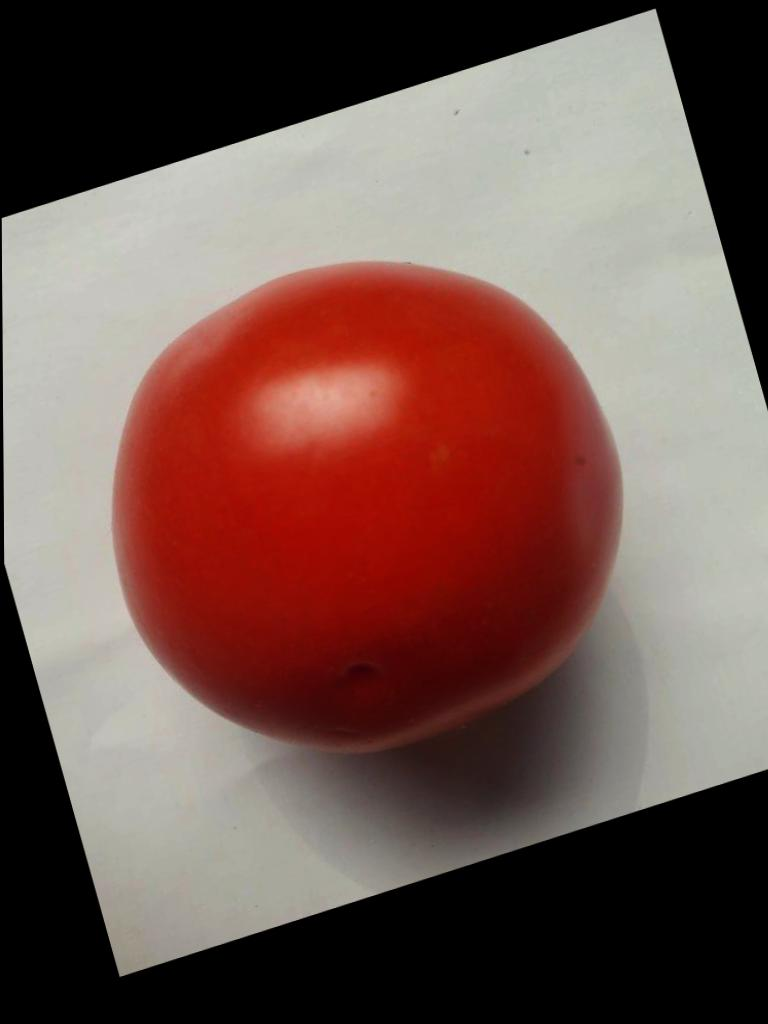tomato: (113, 263, 619, 752)
